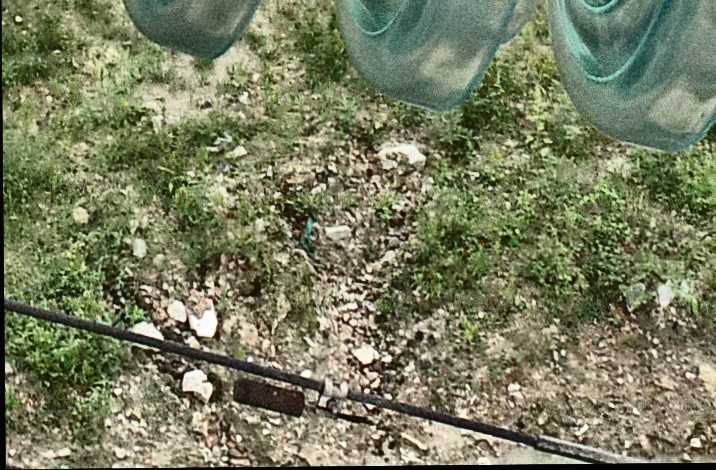damper_defect: (226, 370, 379, 429)
